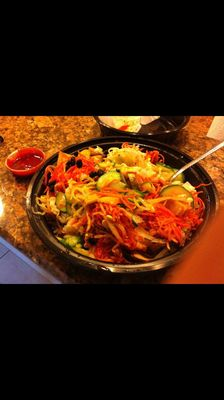salad: (170, 141, 223, 184)
sushi: (26, 135, 215, 277), (6, 147, 45, 177)
